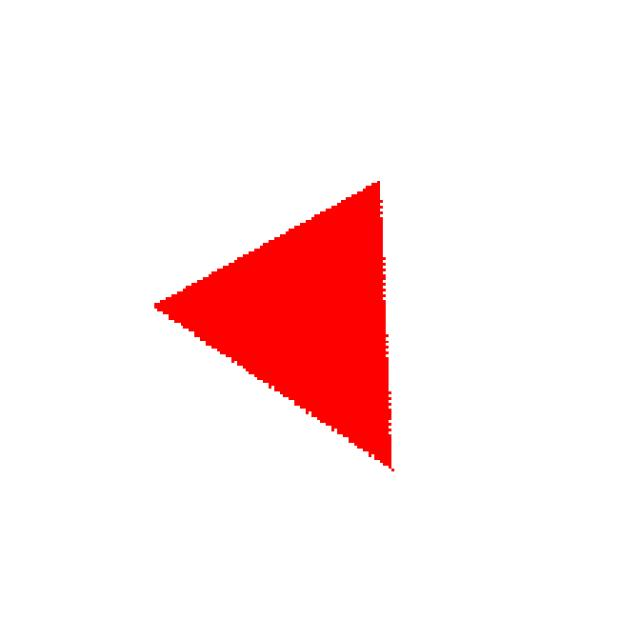Triangle: (110, 137, 526, 497)
